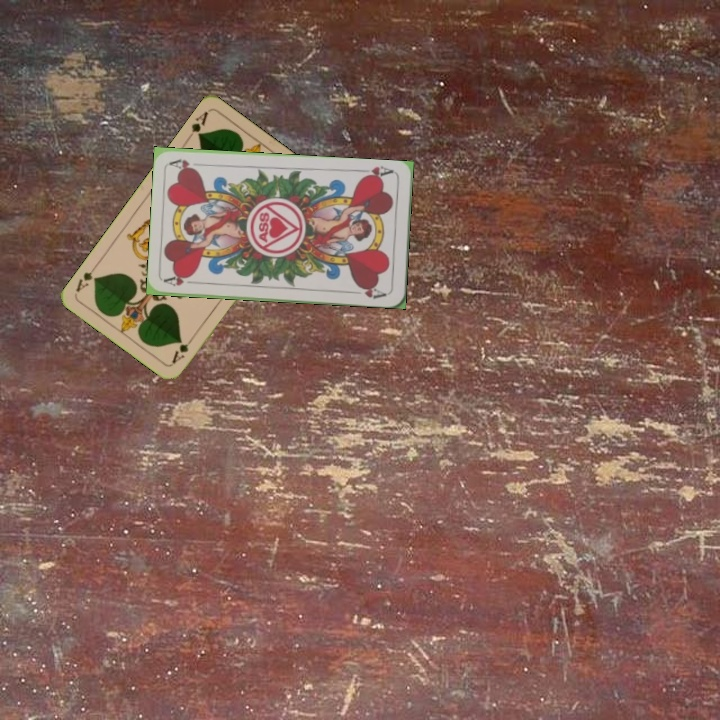GA: (182, 107, 211, 143), (168, 332, 197, 366)
HA: (356, 162, 396, 182), (161, 272, 194, 289)
